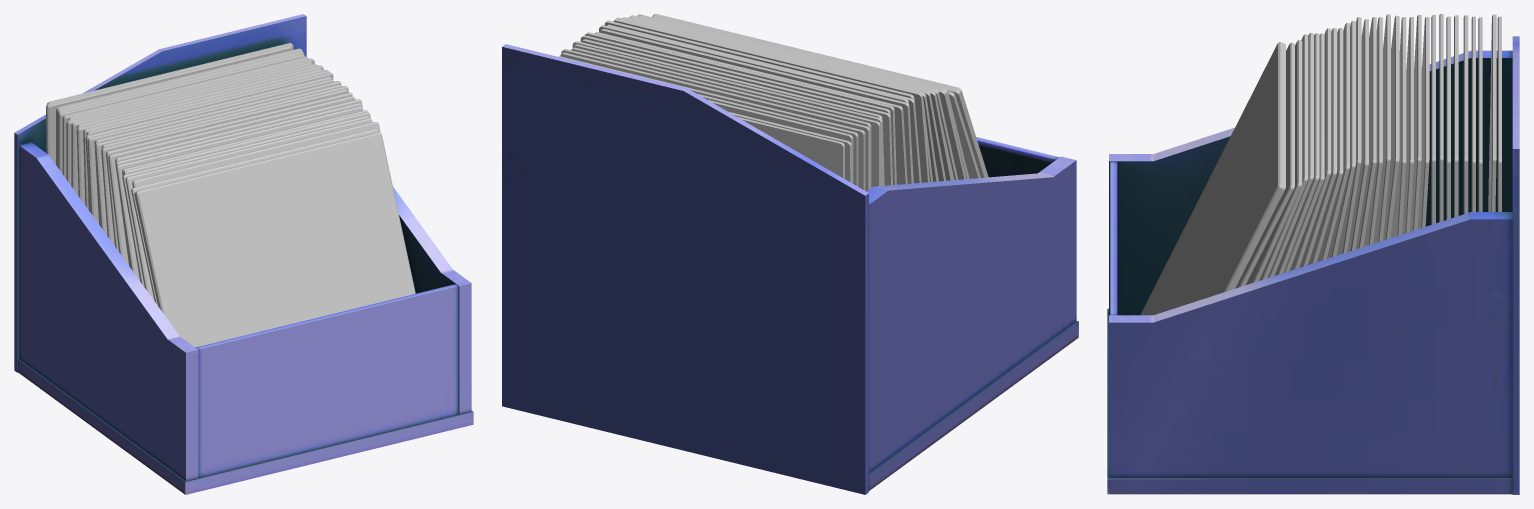
The model's file is Box_vinyls.fbx.
The picture shows the model from 3 angles, left to right: view 1: azimuth 30°, elevation 25°; view 2: azimuth 150°, elevation 25°; view 3: azimuth 270°, elevation 25°; orthographic projection. The views are drawn at different scales.
Parts seen in each view (by area): view 1: Box_main, Box_Cover, Box_vinyls; view 2: Box_main, Box_vinyls, Box_Cover; view 3: Box_main, Box_vinyls, Box_Cover.
Part boxes in pixels (x1=…): Box_main: x1=14, y1=14, x2=473, y2=494; Box_Cover: x1=134, y1=132, x2=415, y2=347; Box_vinyls: x1=46, y1=43, x2=380, y2=305; Box_main: x1=502, y1=44, x2=1078, y2=494; Box_vinyls: x1=558, y1=14, x2=980, y2=191; Box_Cover: x1=652, y1=14, x2=988, y2=177; Box_main: x1=1107, y1=36, x2=1519, y2=494; Box_vinyls: x1=1235, y1=14, x2=1501, y2=288; Box_Cover: x1=1140, y1=42, x2=1285, y2=315.
Size of the model in its own units: 8.54 by 8.07 by 8.72.
